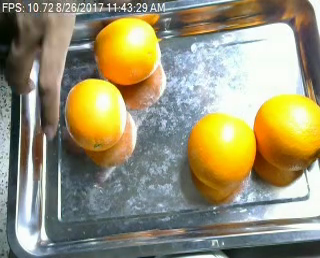Orange: (252, 93, 319, 172), (186, 113, 255, 189), (94, 16, 160, 85), (64, 78, 126, 150)
